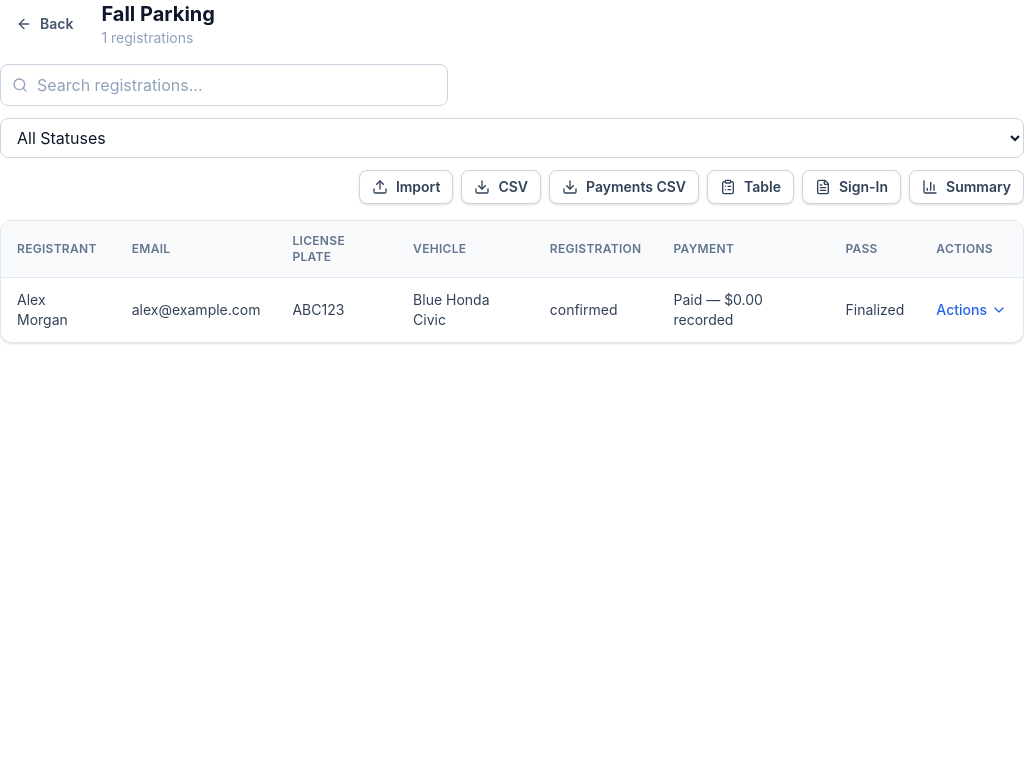
Test: RegistrationViewer › confirms undo and restores valid actions
Click the button "Actions" at point(972, 310), box [936,300,1007,320]
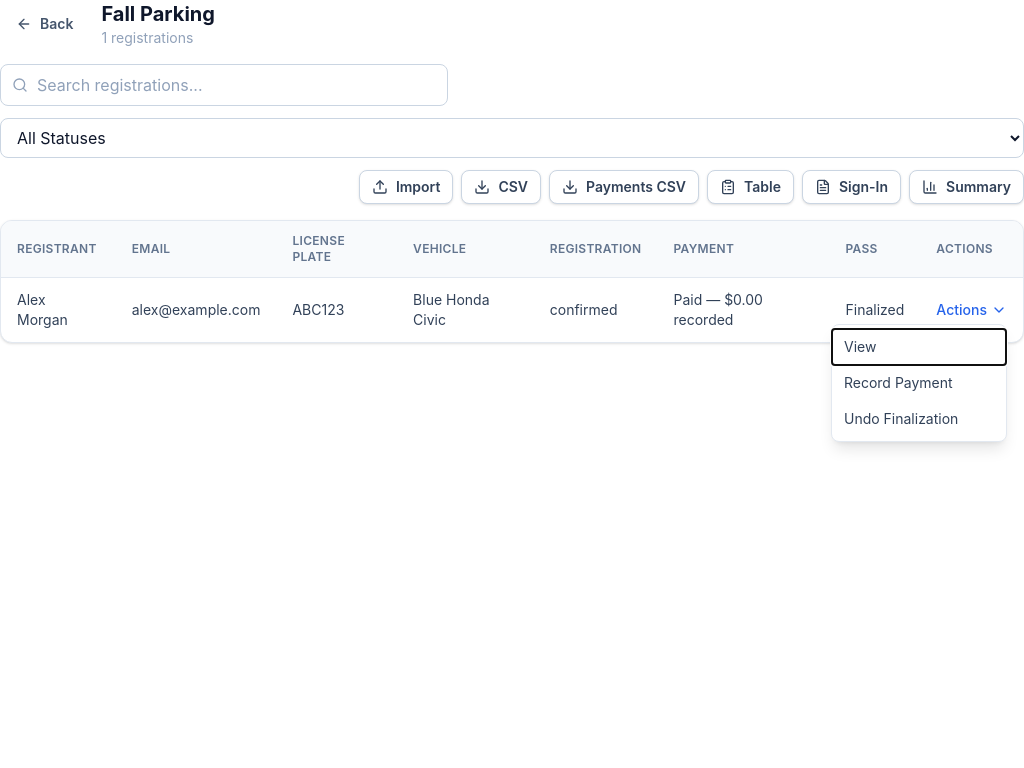
Click the menu item "Undo Finalization" at point(919, 419), box [832,401,1006,437]
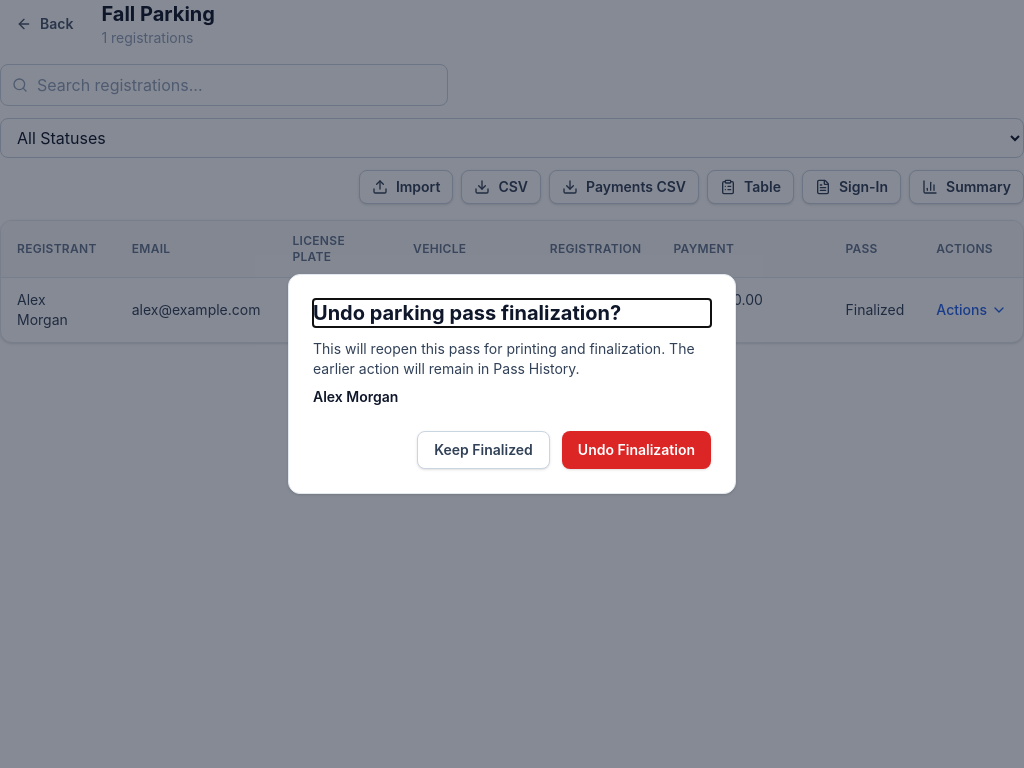
Click the button "Undo Finalization" at point(636, 450), box [562,431,711,469]
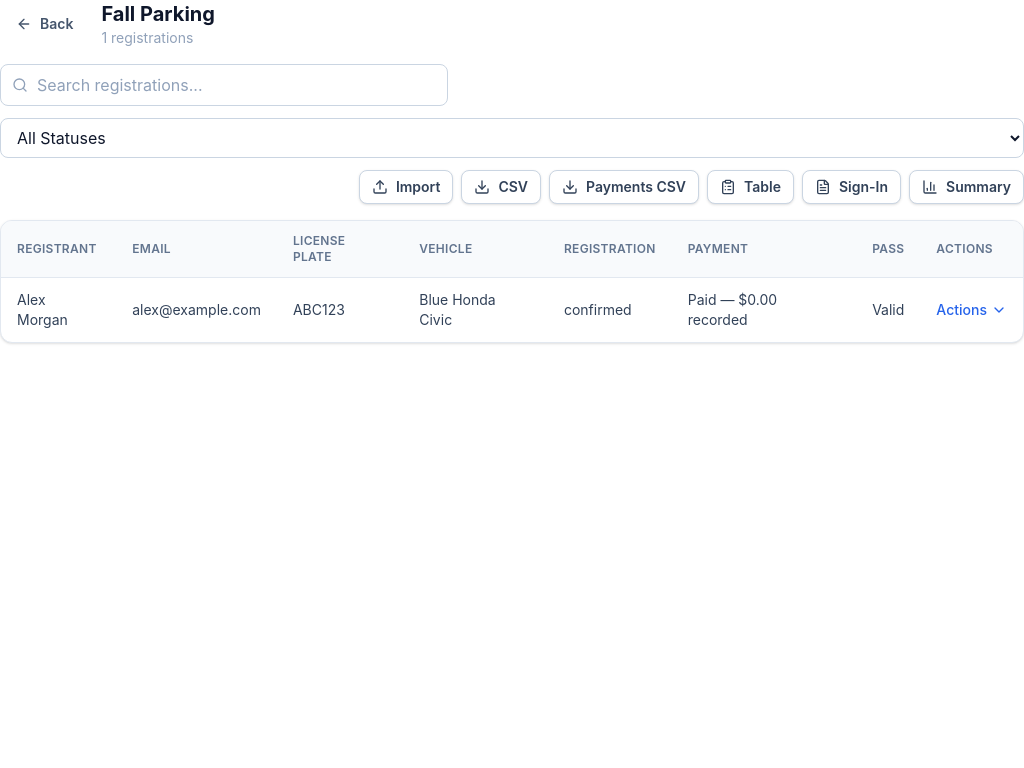
Check: the text "Valid" is shown, box [856,278,920,342]
